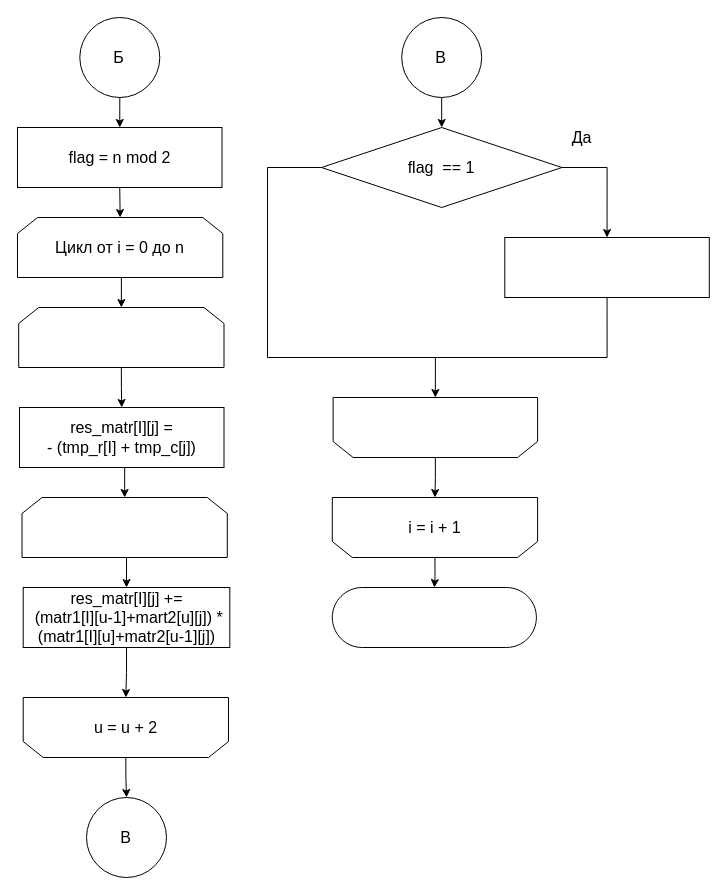
Image size: 727x895. Some labels were removed from this diagram. Each missing label, with the centre of its shape:
"j = j + 1" belongs at pixel 435 427.
"res_matr[I][j] += matr1[I][m - 1] * matr2[m - 1][j]" belongs at pixel 606 267.
"Конец" belongs at pixel 433 617.
"Цикл от j = 0 до k" belongs at pixel 121 337.
"Цикл от u = 1 до m" belongs at pixel 124 527.
